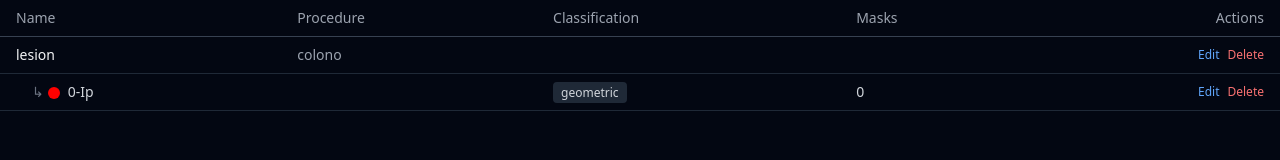
Test case: TagsTable › shows the 409 error message inline when deleting a category that still has labels
Expected: the text "lesion" is shown, [0,36,281,74]
What coordinates should you click on to do the following:
click the button with aria-label "delete lesion"
I would click on:
 (1246, 55)
Its box is [1228,47,1264,63].
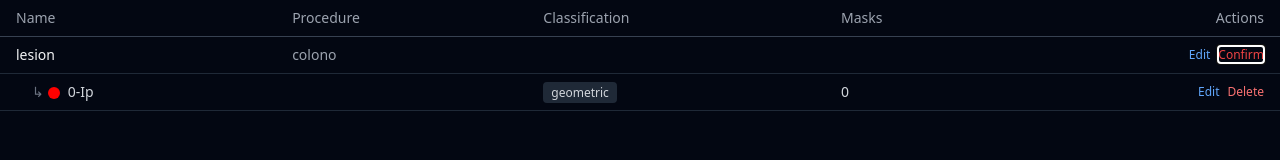
What coordinates should you click on to do the following:
click the button "Confirm"
I would click on:
 (1241, 55)
Its box is [1218,47,1264,63].
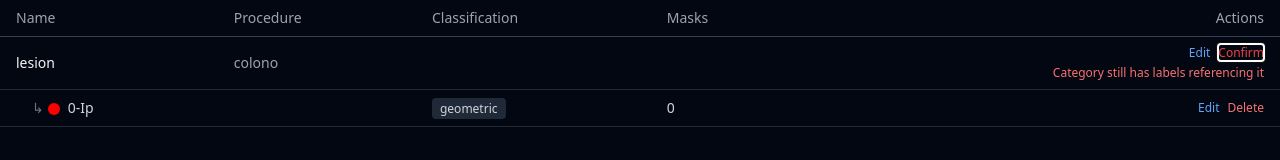
Expected: the text "Category still has labels referencing it" is shown, [1053,64,1264,81]
